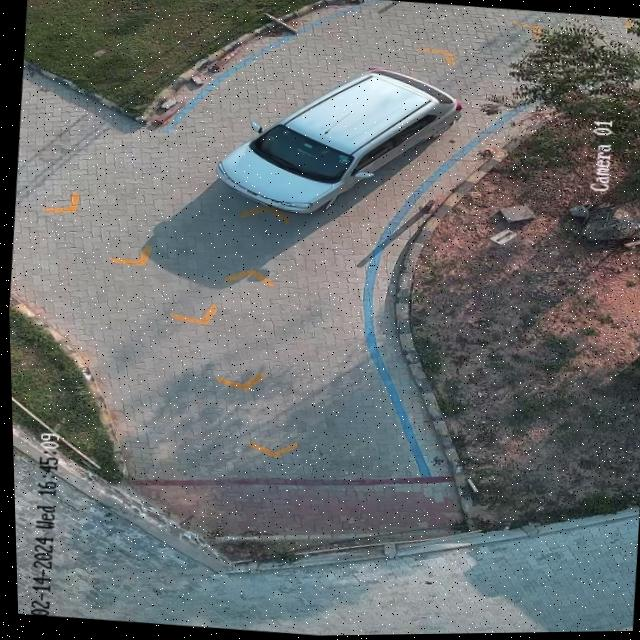car: (210, 66, 462, 214)
